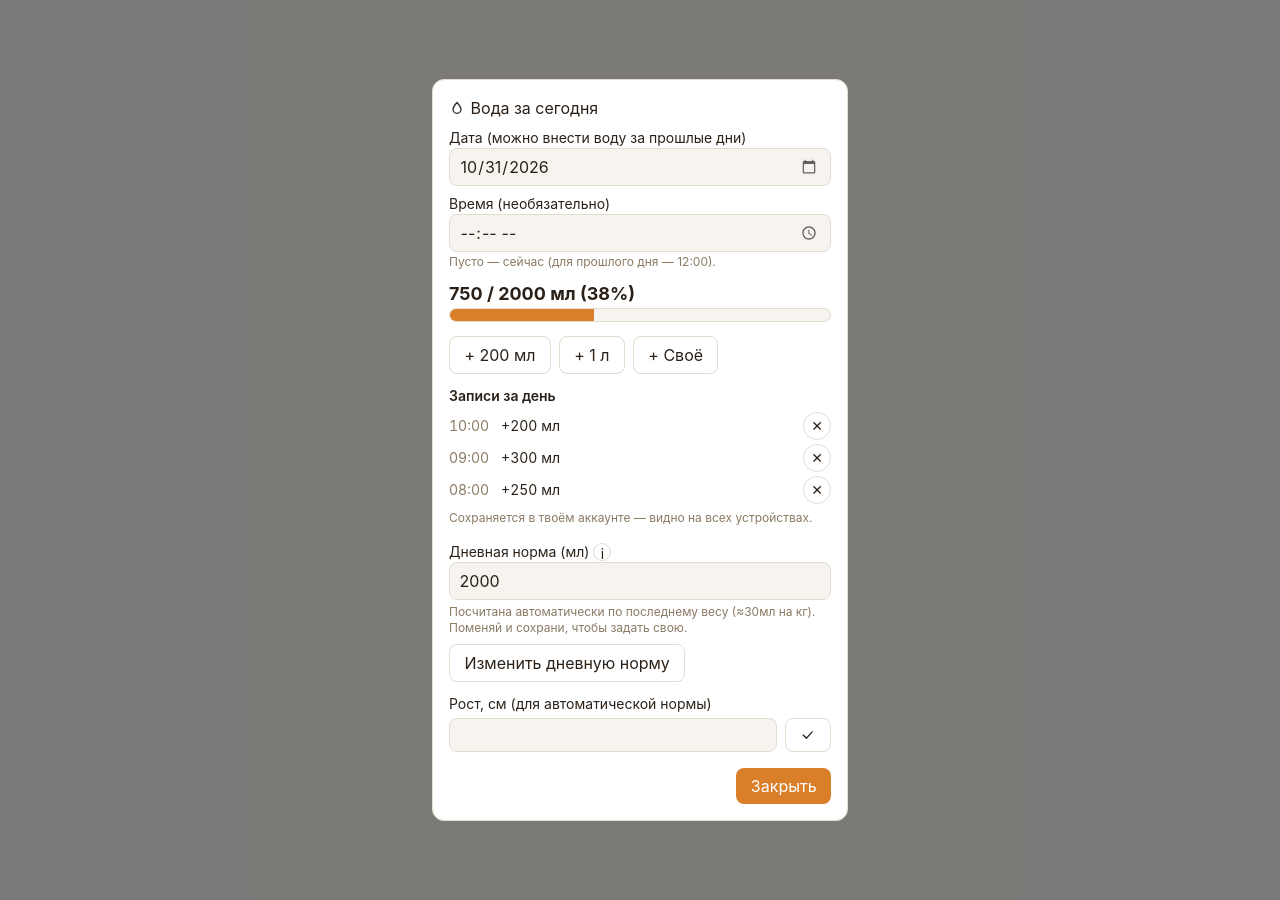
it: окно воды: крестики у записей журнала › клик по крестику удаляет именно ЭТУ запись (id и выбранная дата) и обновляет показанную сумму
This screenshot has width=1280, height=900.
Step 1. Click the button with test id "water-log-remove" in the row of "09:00" → click(817, 458), box top-left (803, 444), bottom-right (831, 472)
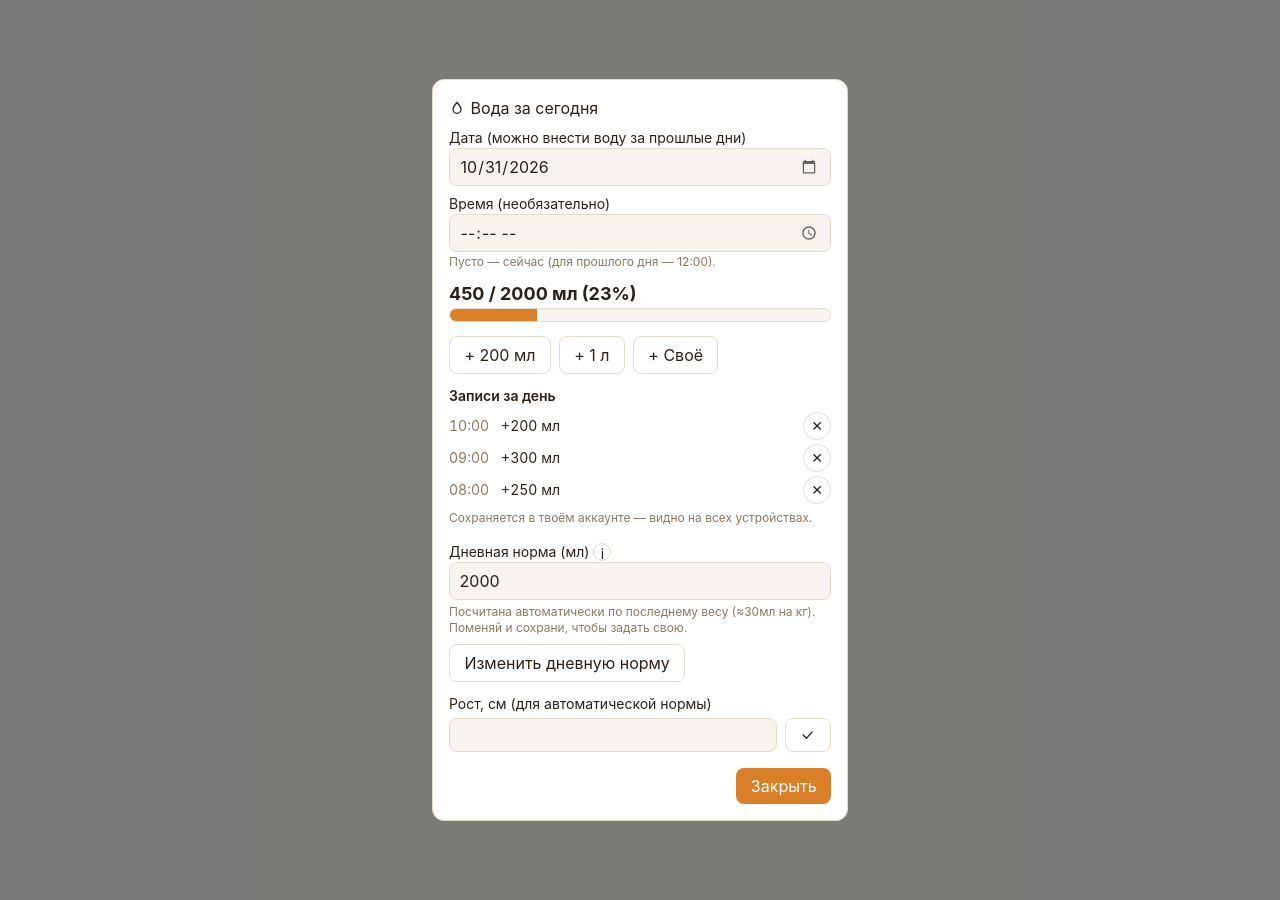
Check: the text "450" is shown, box top-left (449, 283), bottom-right (637, 304)
